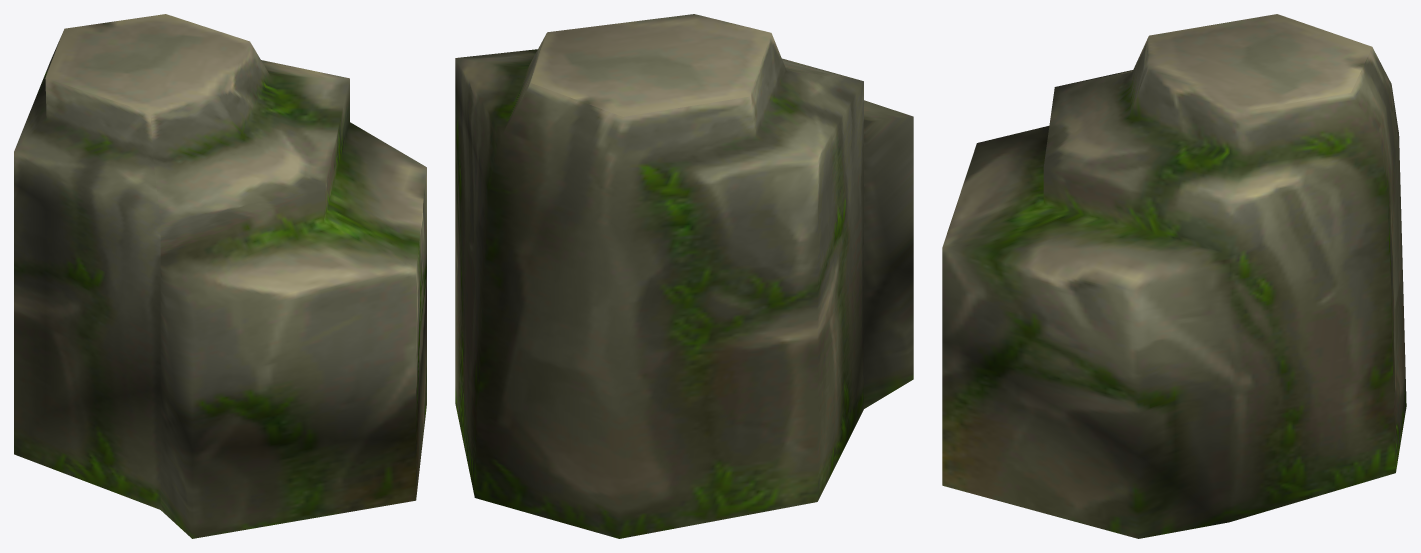
Rendered from RockFormation_4_5 (10).fbx.
3 views of the same model, side by side, from view 1: azimuth 30°, elevation 25°; view 2: azimuth 150°, elevation 25°; view 3: azimuth 270°, elevation 25° (orthographic). The views are drawn at different scales.
Visible parts, largest first — view 1: RockFormation_4_5 (10); view 2: RockFormation_4_5 (10); view 3: RockFormation_4_5 (10).
Boxes of the visible parts, <box> form: RockFormation_4_5 (10): <box>14,14,426,538</box>; RockFormation_4_5 (10): <box>455,14,913,538</box>; RockFormation_4_5 (10): <box>942,14,1406,538</box>.
Bounding box in the file's own units: 2252 × 2122 × 2435.
